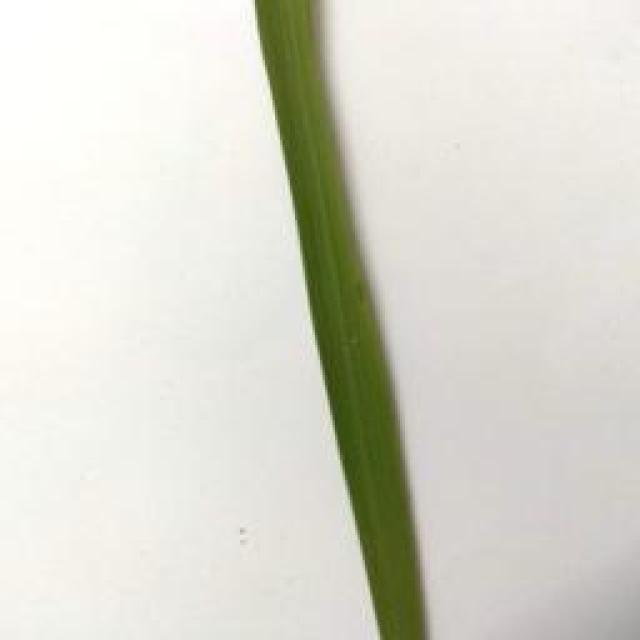Healthy-Plant: (256, 1, 357, 239), (332, 412, 430, 640), (305, 240, 401, 413)
